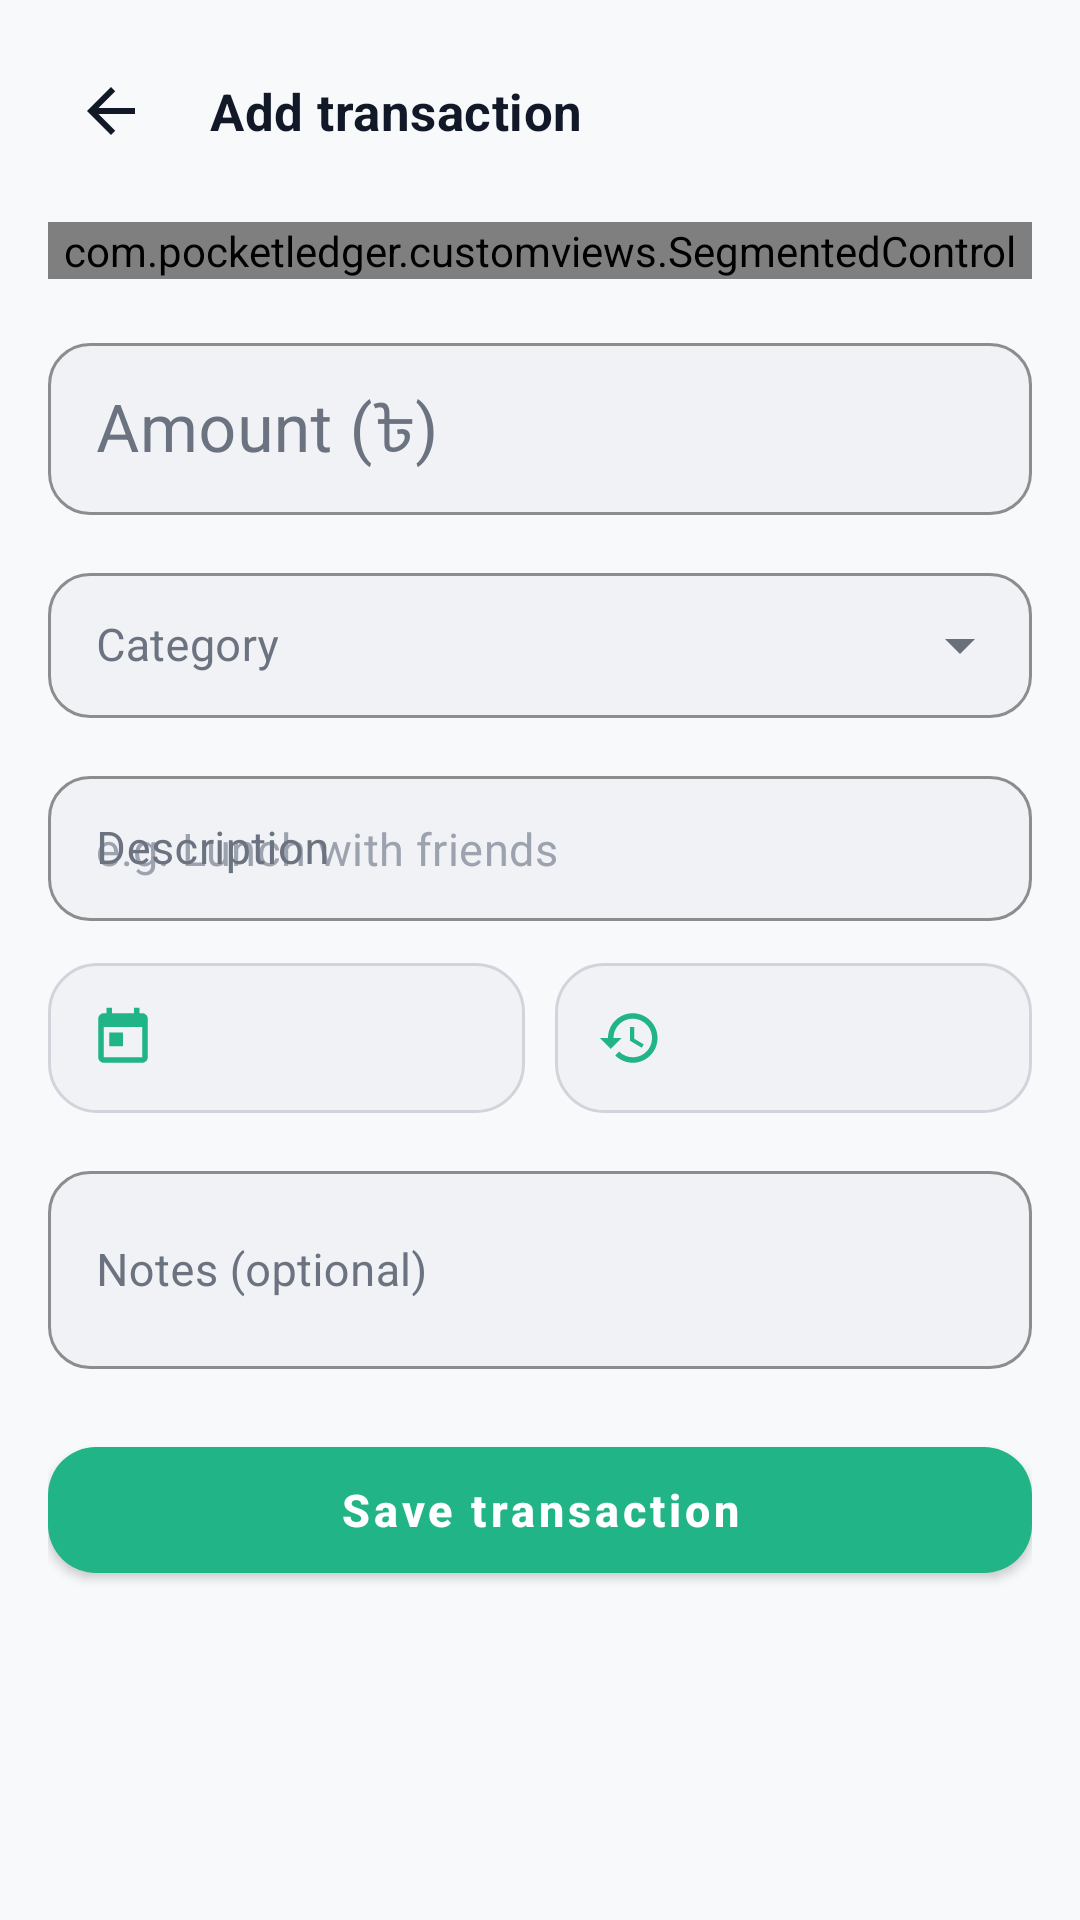

Icon bounding boxes for this 1080*1920 phone screenshot, format (x1=x1, y1=y1, x2=x2, y2=y2):
Back: (x1=87, y1=87, x2=135, y2=135)
Date: (x1=98, y1=1007, x2=148, y2=1063)
Time: (x1=600, y1=1013, x2=658, y2=1063)
